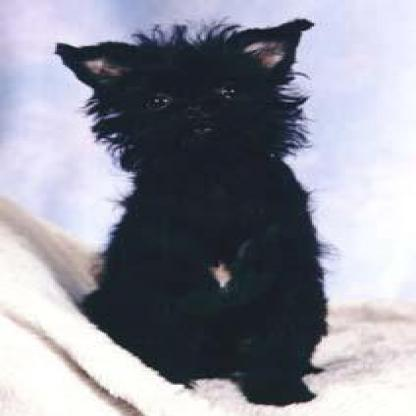affenpinscher: (43, 12, 334, 408)
